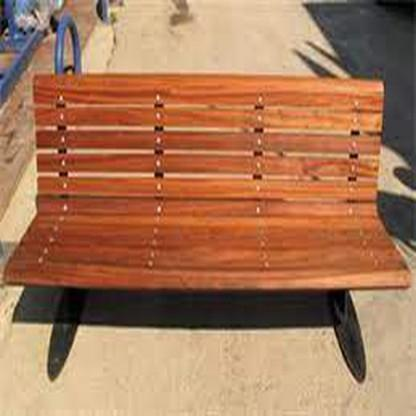obstacle: (8, 69, 396, 335)
